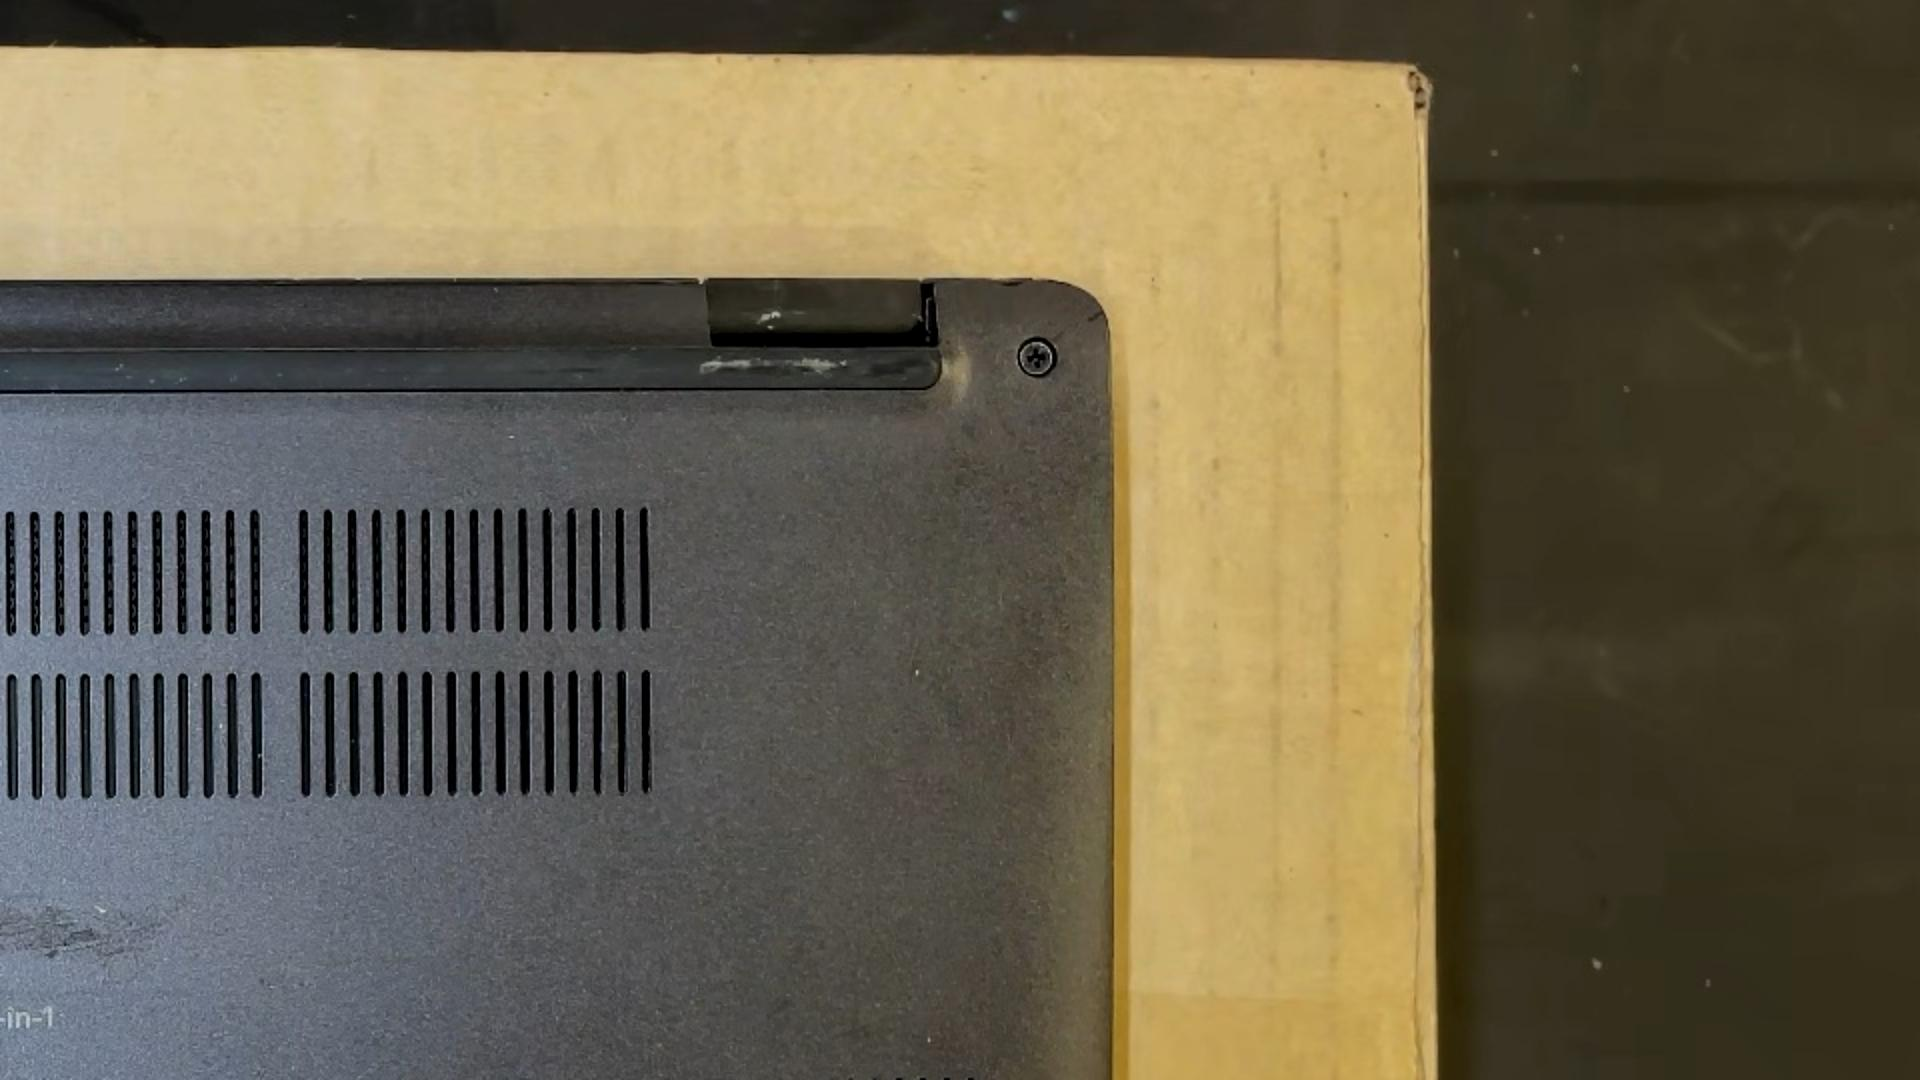chip: (766, 324, 775, 331)
scratches: (698, 355, 851, 377), (753, 310, 782, 327), (90, 903, 111, 914), (927, 1030, 932, 1043), (915, 667, 919, 679)
